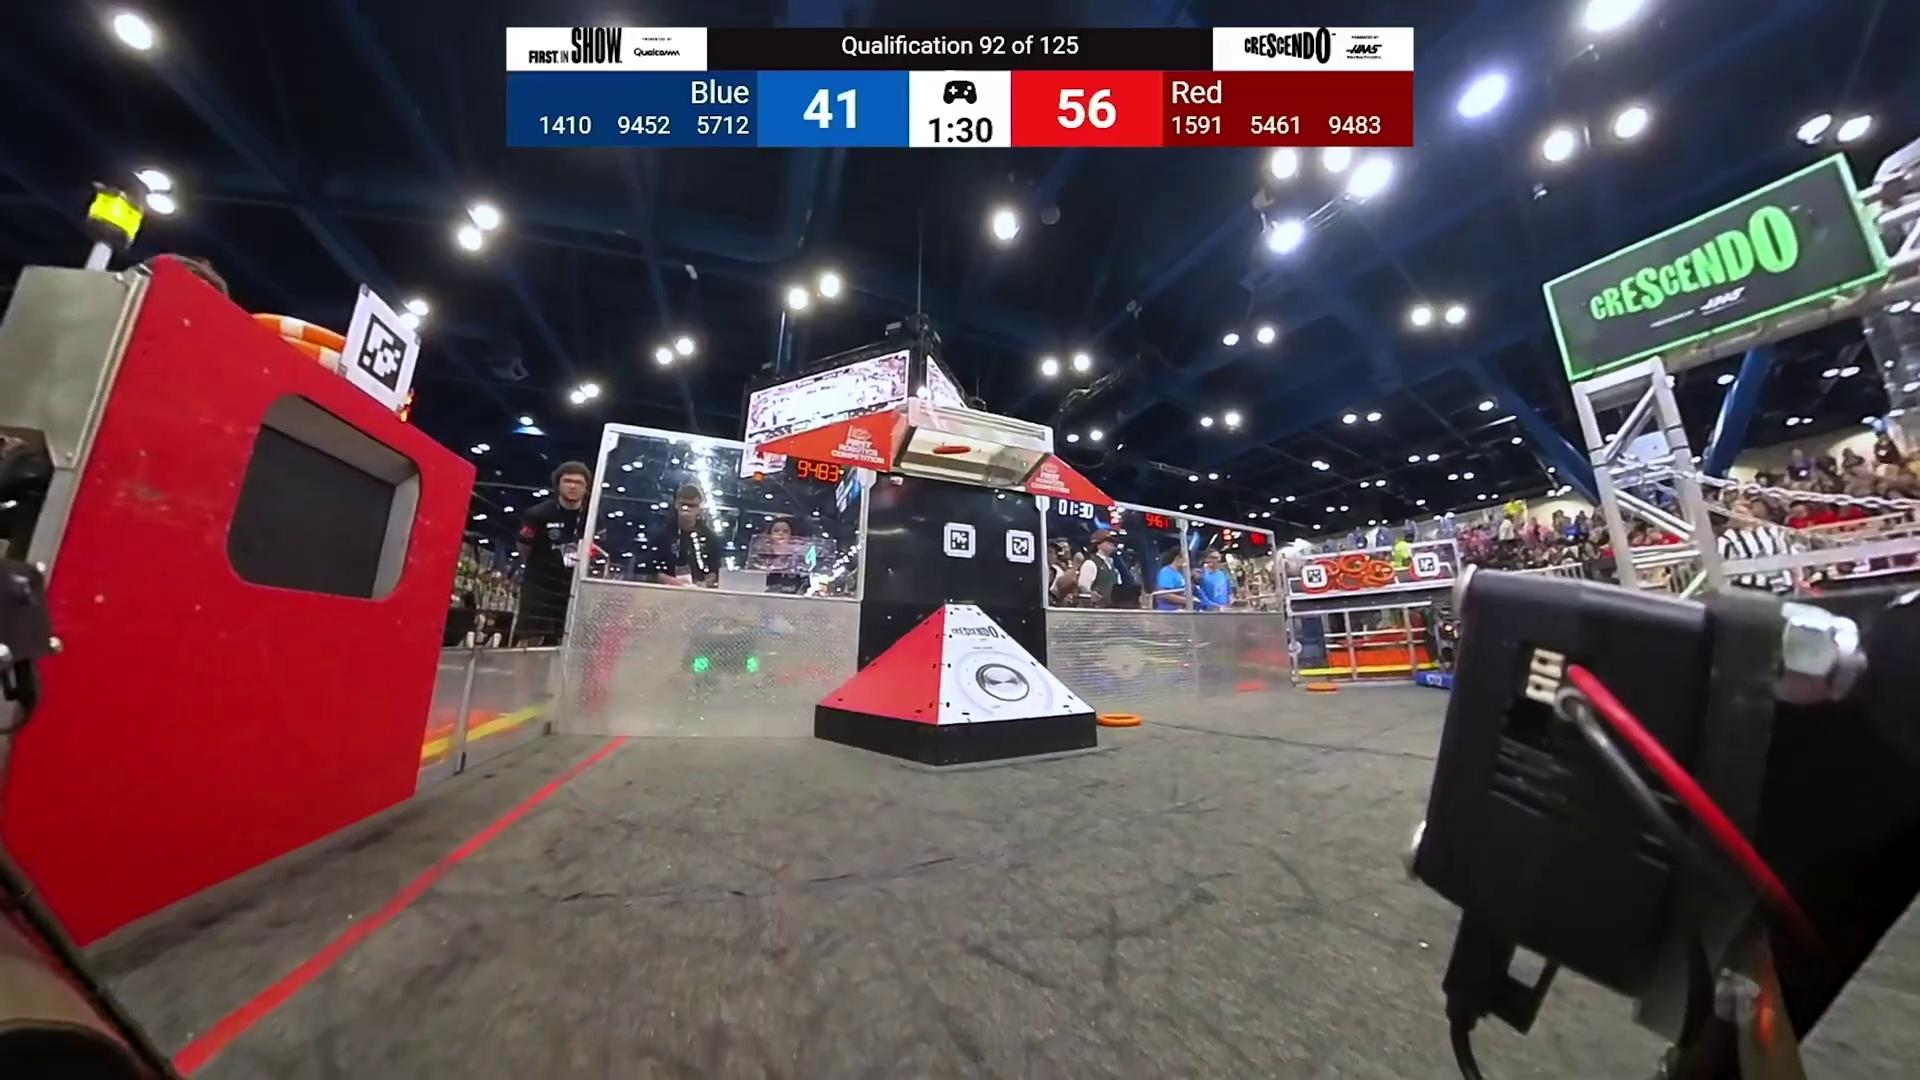robot: (1415, 613, 1462, 690)
